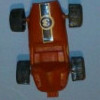rojo: (13, 2, 83, 96)
